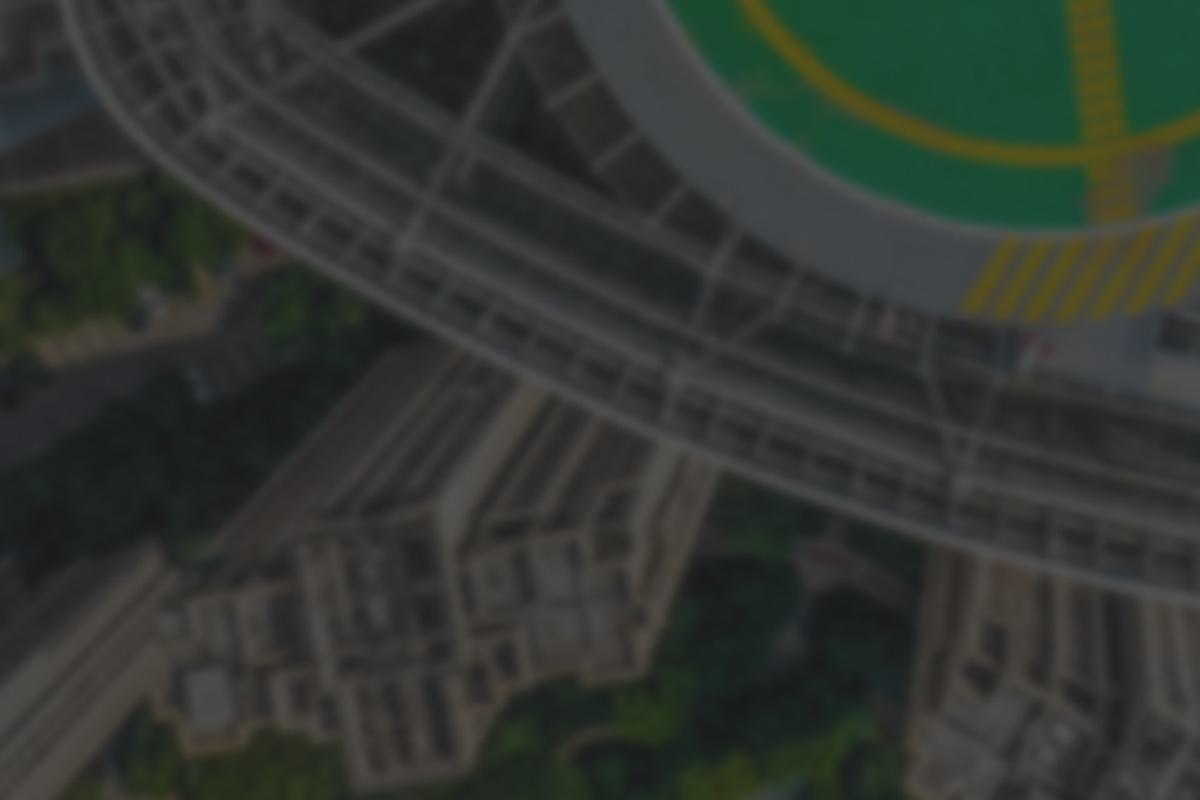Apron: (798, 1, 1168, 235)
